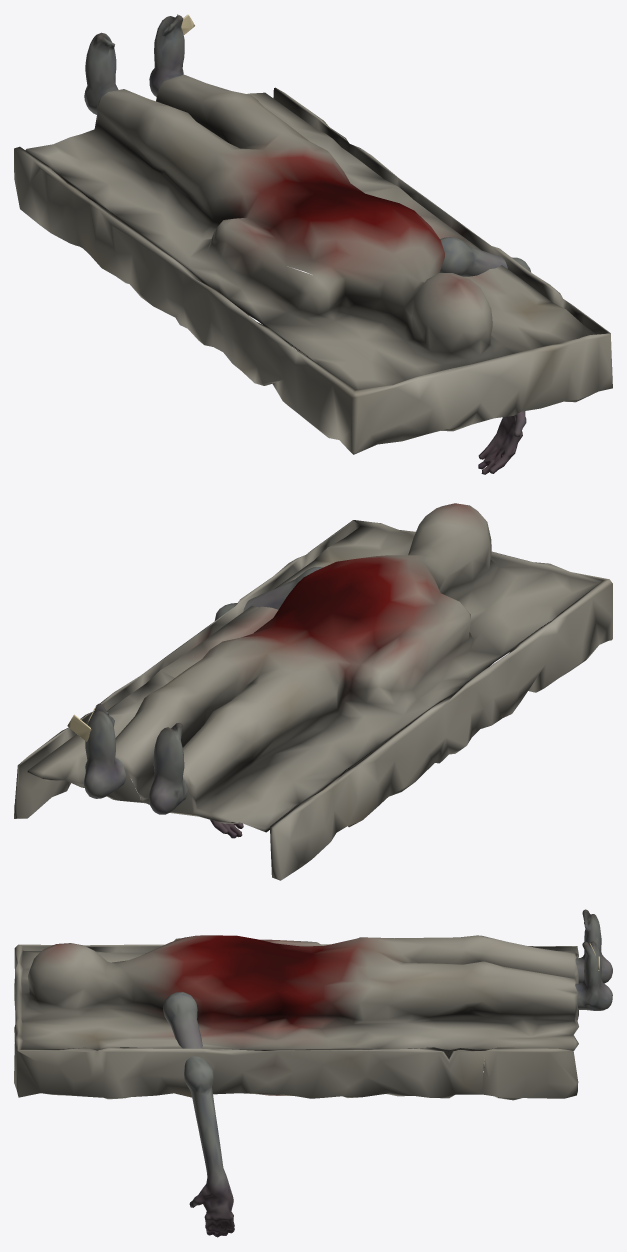
The model's file is lab_corpse.glb.
3 views of the same model, one above another, from view 1: azimuth 30°, elevation 25°; view 2: azimuth 150°, elevation 25°; view 3: azimuth 270°, elevation 25° (orthographic). The views are drawn at different scales.
Parts seen in each view (by area): view 1: lab_corpse; view 2: lab_corpse; view 3: lab_corpse.
Part boxes in pixels (box(x1,y1,x2,y2)): lab_corpse: box(14, 14, 612, 474); lab_corpse: box(14, 503, 612, 880); lab_corpse: box(14, 909, 612, 1237).
Size of the model in its own units: 0.8985 by 0.929 by 1.92.
